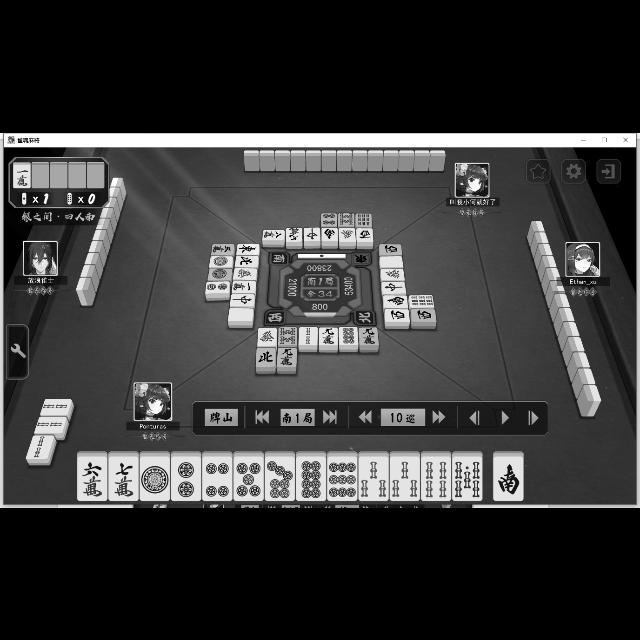1m: (232, 280, 255, 292)
1p: (140, 458, 170, 500), (208, 268, 232, 280), (210, 255, 232, 267)
2p: (171, 456, 201, 500), (206, 282, 228, 292)
2s: (26, 435, 54, 457), (40, 398, 72, 416), (34, 416, 66, 434), (300, 326, 318, 344)
3m: (211, 243, 235, 255)
3s: (358, 456, 389, 500), (390, 456, 420, 500)
4p: (202, 456, 232, 500), (320, 212, 338, 225)
4s: (421, 456, 451, 500)
5p: (232, 456, 264, 500)
5s: (452, 456, 482, 500)
6m: (78, 458, 109, 500)
7m: (108, 456, 138, 499)
7p: (264, 456, 296, 500)
8m: (262, 229, 284, 239)
8p: (296, 456, 326, 499), (339, 327, 359, 345)
8s: (279, 326, 297, 344), (339, 212, 355, 226)
9m: (318, 327, 338, 345), (277, 348, 297, 366), (358, 328, 378, 344), (286, 227, 302, 241)
9p: (328, 458, 358, 500)
9s: (411, 294, 434, 306), (356, 212, 372, 226)
chun: (230, 293, 254, 307), (382, 281, 406, 293), (304, 228, 320, 240)
haku: (228, 308, 254, 320), (380, 255, 404, 267)
hatsu: (232, 266, 258, 280), (258, 327, 276, 345), (381, 268, 405, 280), (338, 228, 356, 242)
nan: (493, 456, 523, 499), (383, 295, 407, 307), (322, 228, 338, 240)
pe: (13, 165, 31, 188), (256, 348, 276, 366), (234, 254, 256, 266)
sha: (384, 308, 410, 322), (412, 308, 436, 322), (379, 243, 401, 255), (357, 228, 373, 242)
tou: (236, 243, 260, 254)
